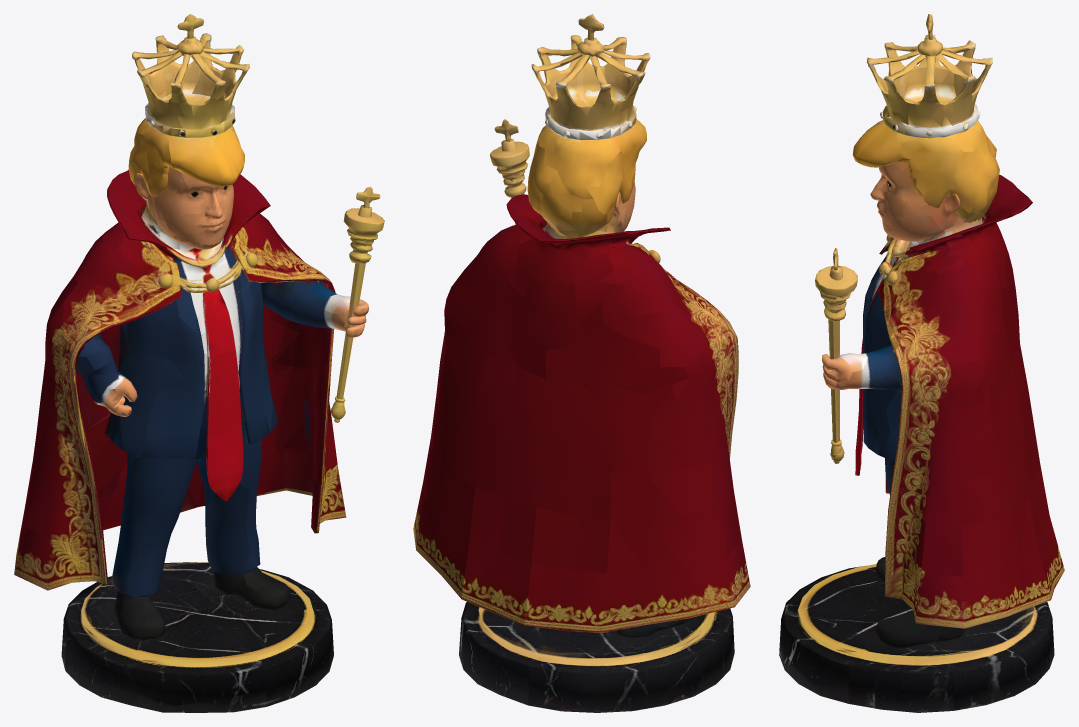
The model's file is right-king.glb.
3 renders of one model, left to right at view 1: azimuth 30°, elevation 25°; view 2: azimuth 150°, elevation 25°; view 3: azimuth 270°, elevation 25°, orthographic.
Size of the model in its own units: 0.5215 by 1 by 0.4043.
Materials: 1 (1 with a texture image).
